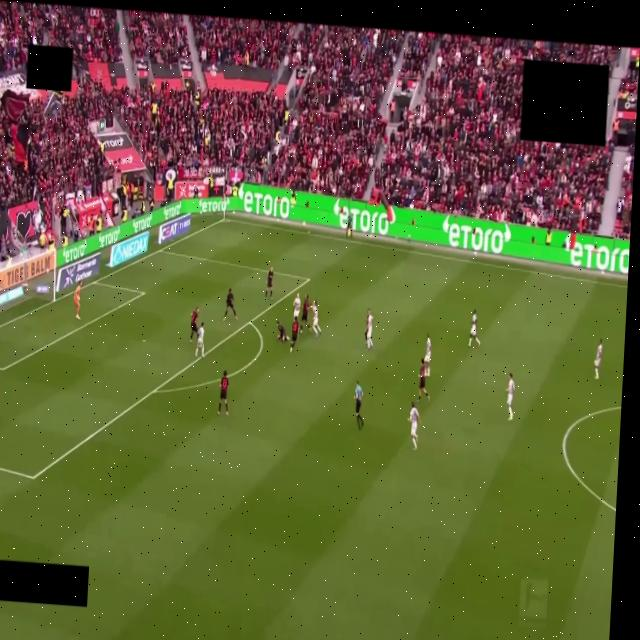player: (409, 402, 420, 449), (217, 370, 228, 415), (418, 360, 429, 401), (223, 289, 237, 321), (468, 310, 480, 347), (290, 314, 299, 352), (507, 373, 514, 421), (594, 340, 602, 380), (195, 322, 204, 357), (190, 308, 199, 341), (424, 334, 431, 376), (312, 300, 320, 336), (365, 309, 372, 349), (301, 295, 309, 329), (74, 282, 81, 319), (265, 268, 273, 299), (277, 321, 288, 341), (293, 293, 301, 319)
referee: (355, 381, 364, 429)
